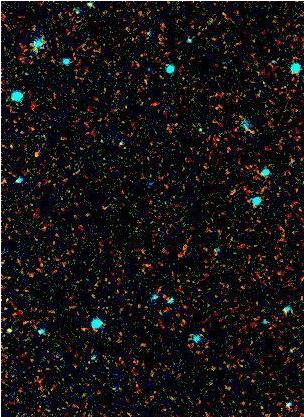star: (0, 312, 27, 342)
